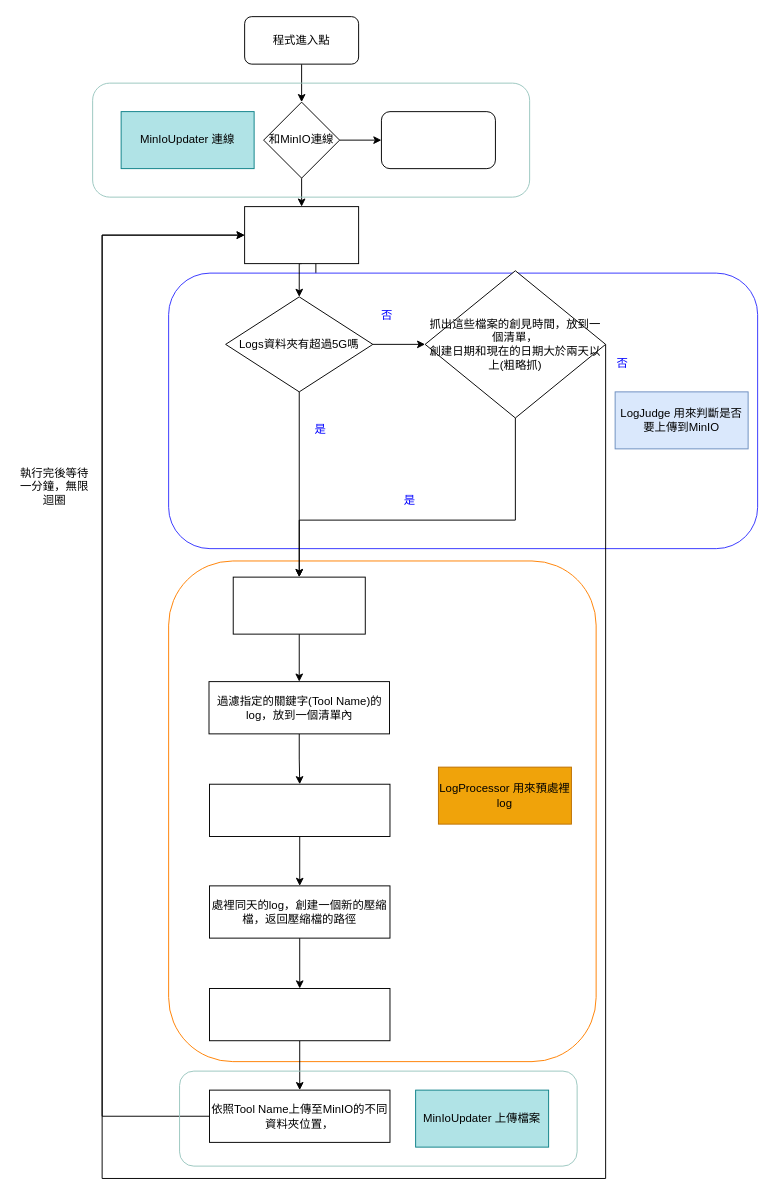
The diagram is 774 pixels wide and 1203 high, and some of its shapes have lost their labels. Here are the shapes that lost their labels. From the top down, the centre of each, then its label:
pixel 437 140: 失敗，程式中斷
pixel 301 235: 去某個資料夾分析log
pixel 298 605: 讀取Tool Name的設定檔
pixel 299 809: 分類兩堆，一堆是同天建立的log, 另一堆是不同天建立的log
pixel 299 1014: 處里不同天的log，返回不用處裡的log名稱
